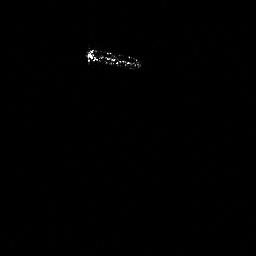ship: (86, 48, 141, 68)
